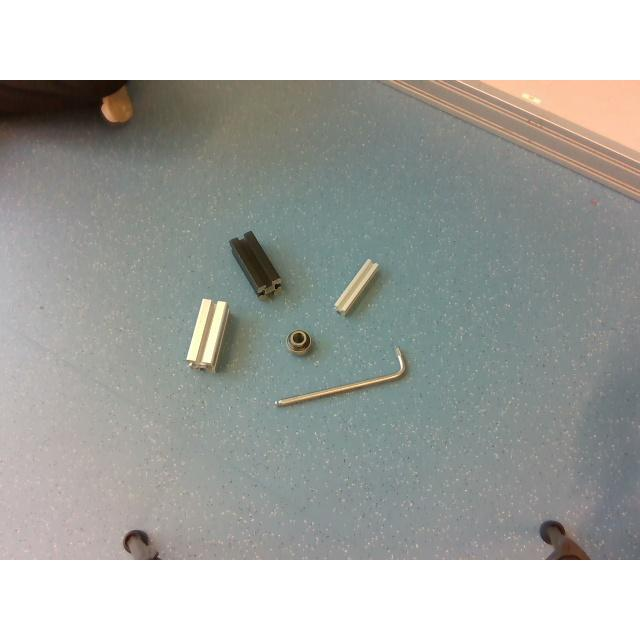AllenKey: (274, 346, 406, 406)
Bearing2: (287, 329, 311, 353)
F20_20_G: (334, 259, 378, 315)
S40_40_B: (230, 231, 282, 295)
S40_40_G: (186, 298, 228, 370)
